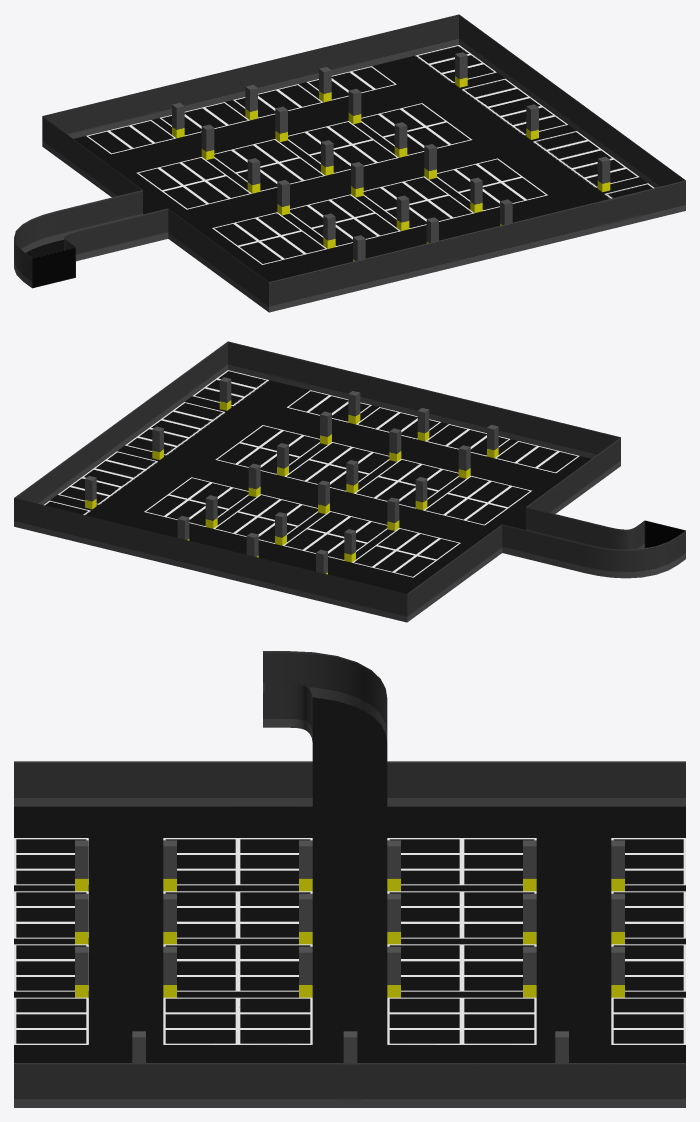
File: underground_car_meet.glb
The picture shows the model from 3 angles, top to bottom: view 1: azimuth 30°, elevation 25°; view 2: azimuth 150°, elevation 25°; view 3: azimuth 270°, elevation 25°; orthographic projection. The views are drawn at different scales.
Visible parts, largest first — view 1: UndergroundParkingLot, SupportPillars; view 2: UndergroundParkingLot, SupportPillars; view 3: UndergroundParkingLot, SupportPillars.
Part boxes in pixels (x1,y1,x2,y2): UndergroundParkingLot: (14,14,685,312); SupportPillars: (172,52,610,261); UndergroundParkingLot: (14,341,685,622); SupportPillars: (85,377,498,574); UndergroundParkingLot: (14,651,685,1107); SupportPillars: (75,840,624,1062).
Bounding box in the file's own units: 78.3 × 4.01 × 54.
2 materials, 2 textured.
